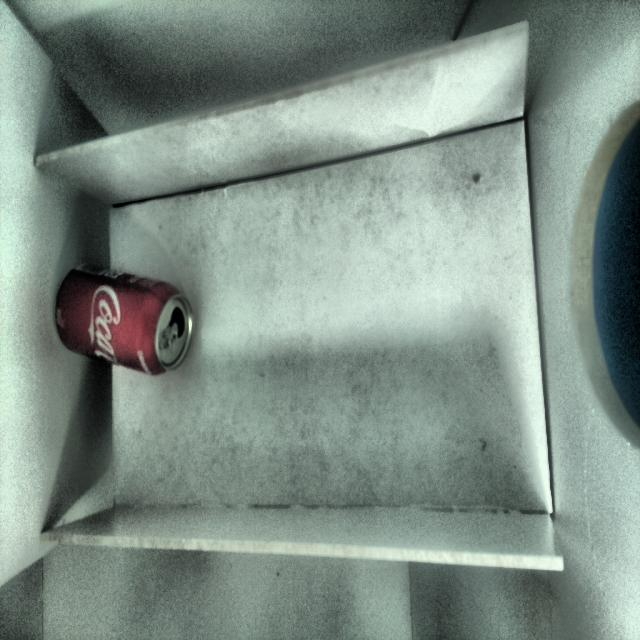Cans: (54, 270, 196, 377)
